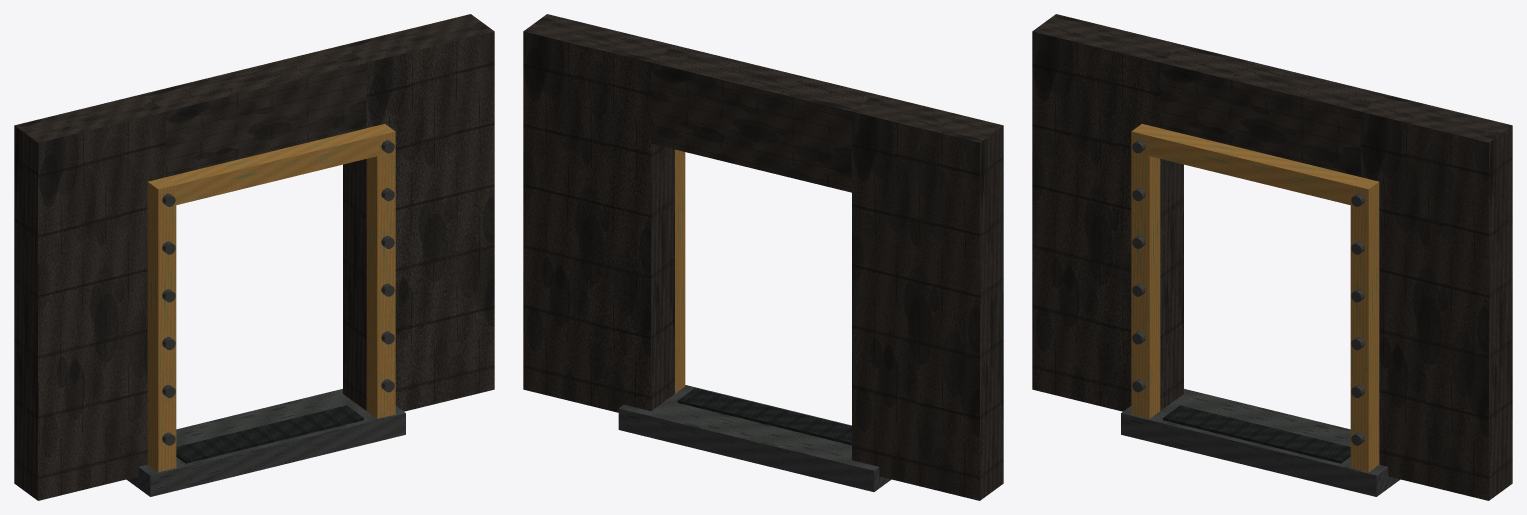
Rendered from SM_DoorwayThreshold_Frame_4m.obj.
3 views of the same model, side by side, from view 1: azimuth 30°, elevation 25°; view 2: azimuth 150°, elevation 25°; view 3: azimuth 330°, elevation 25° (orthographic).
Visible parts, largest first — view 1: Left_DoorPier, Right_DoorPier, Top_LintelFill, Iron_ThresholdPlate, Left_BrassJamb, Right_BrassJamb, Brass_Header, Threshold_GrateInset, Doorframe_Rivets; view 2: Left_DoorPier, Right_DoorPier, Top_LintelFill, Iron_ThresholdPlate, Threshold_GrateInset, Right_BrassJamb; view 3: Right_DoorPier, Left_DoorPier, Top_LintelFill, Iron_ThresholdPlate, Right_BrassJamb, Left_BrassJamb, Brass_Header, Threshold_GrateInset, Doorframe_Rivets.
Boxes of the visible parts, box(x1,y1,x2,y2) form: Left_DoorPier: box(14, 94, 165, 500); Right_DoorPier: box(343, 14, 494, 411); Top_LintelFill: box(142, 45, 366, 176); Iron_ThresholdPlate: box(126, 389, 405, 496); Left_BrassJamb: box(147, 177, 176, 472); Right_BrassJamb: box(366, 124, 395, 418); Brass_Header: box(147, 124, 395, 209); Threshold_GrateInset: box(176, 405, 363, 463); Doorframe_Rivets: box(162, 140, 394, 445); Left_DoorPier: box(852, 94, 1003, 500); Right_DoorPier: box(523, 14, 674, 412); Top_LintelFill: box(651, 45, 875, 192); Iron_ThresholdPlate: box(618, 385, 891, 491); Threshold_GrateInset: box(677, 388, 851, 445); Right_BrassJamb: box(675, 149, 685, 393); Right_DoorPier: box(1361, 94, 1512, 500); Left_DoorPier: box(1032, 14, 1183, 411); Top_LintelFill: box(1160, 45, 1384, 176); Iron_ThresholdPlate: box(1121, 389, 1400, 496); Right_BrassJamb: box(1350, 177, 1379, 472); Left_BrassJamb: box(1131, 124, 1160, 418); Brass_Header: box(1131, 124, 1379, 208); Threshold_GrateInset: box(1163, 405, 1350, 463); Doorframe_Rivets: box(1132, 140, 1364, 445).
Bounding box in the file's own units: 4 × 3.1 × 0.65.
4 materials, 4 textured.
